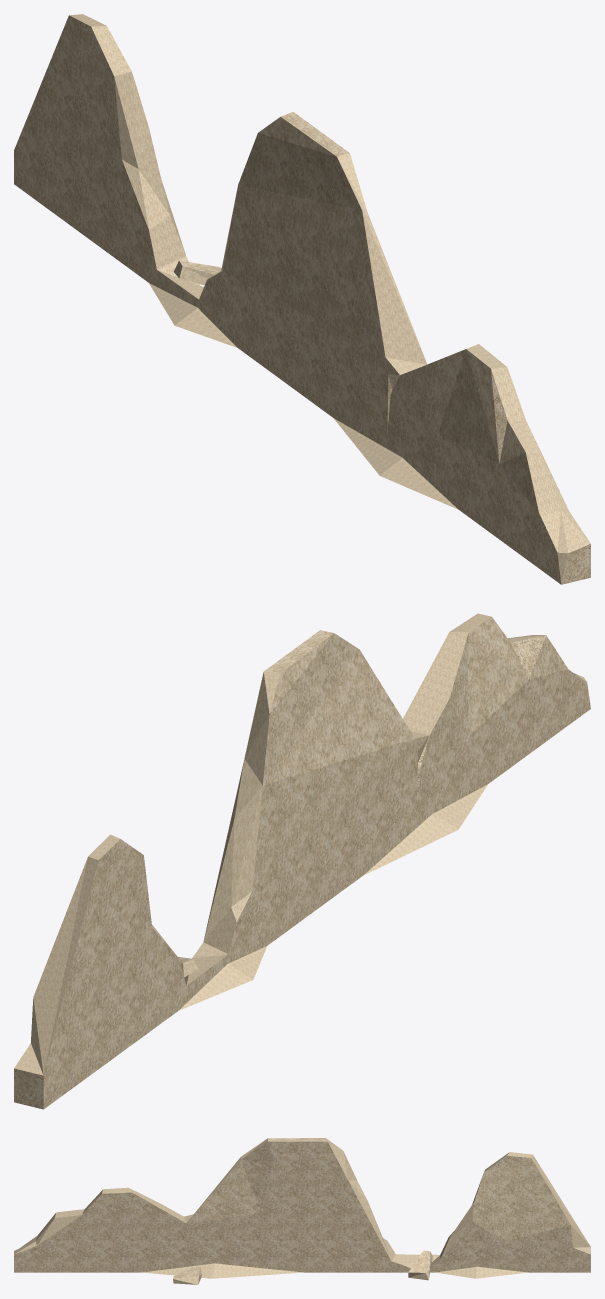
File: thm_tato_imprv_wall_ruin_s01_l2.fbx
3 renders of one model, top to bottom at view 1: azimuth 30°, elevation 25°; view 2: azimuth 150°, elevation 25°; view 3: azimuth 270°, elevation 25°, orthographic. The views are drawn at different scales.
Visible parts, largest first — view 1: mesh_node; view 2: mesh_node; view 3: mesh_node.
Part boxes in pixels (x1,y1,x2,y2): mesh_node: [14, 14, 590, 584]; mesh_node: [14, 613, 590, 1109]; mesh_node: [14, 1138, 590, 1284].
Size of the model in its own units: 1.73 by 4 by 16.
